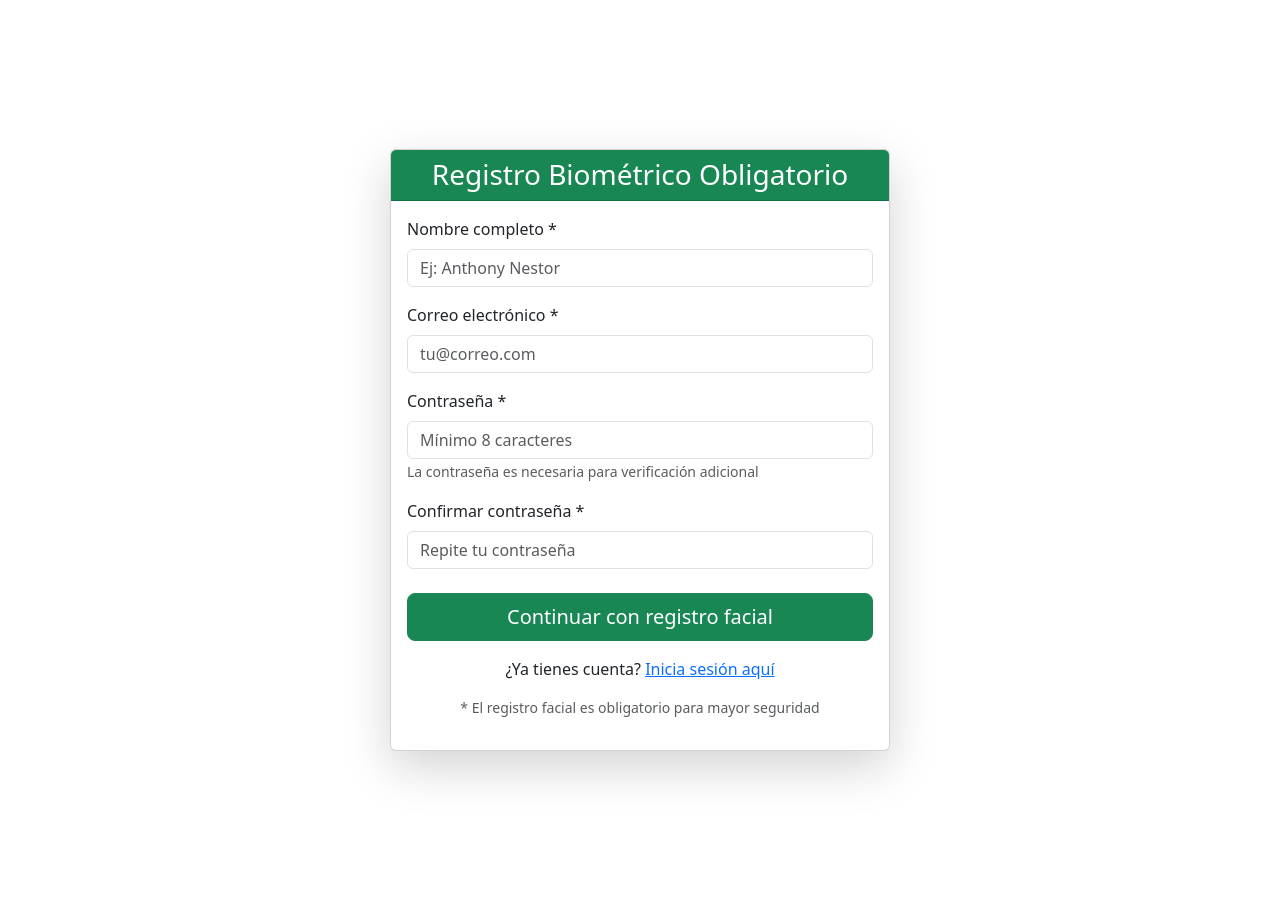
Test: Register component › muestra error cuando las contraseñas no coinciden
Type "Test User" into the field labelled "Nombre completo *" at (640, 268), box [407,249,873,287]
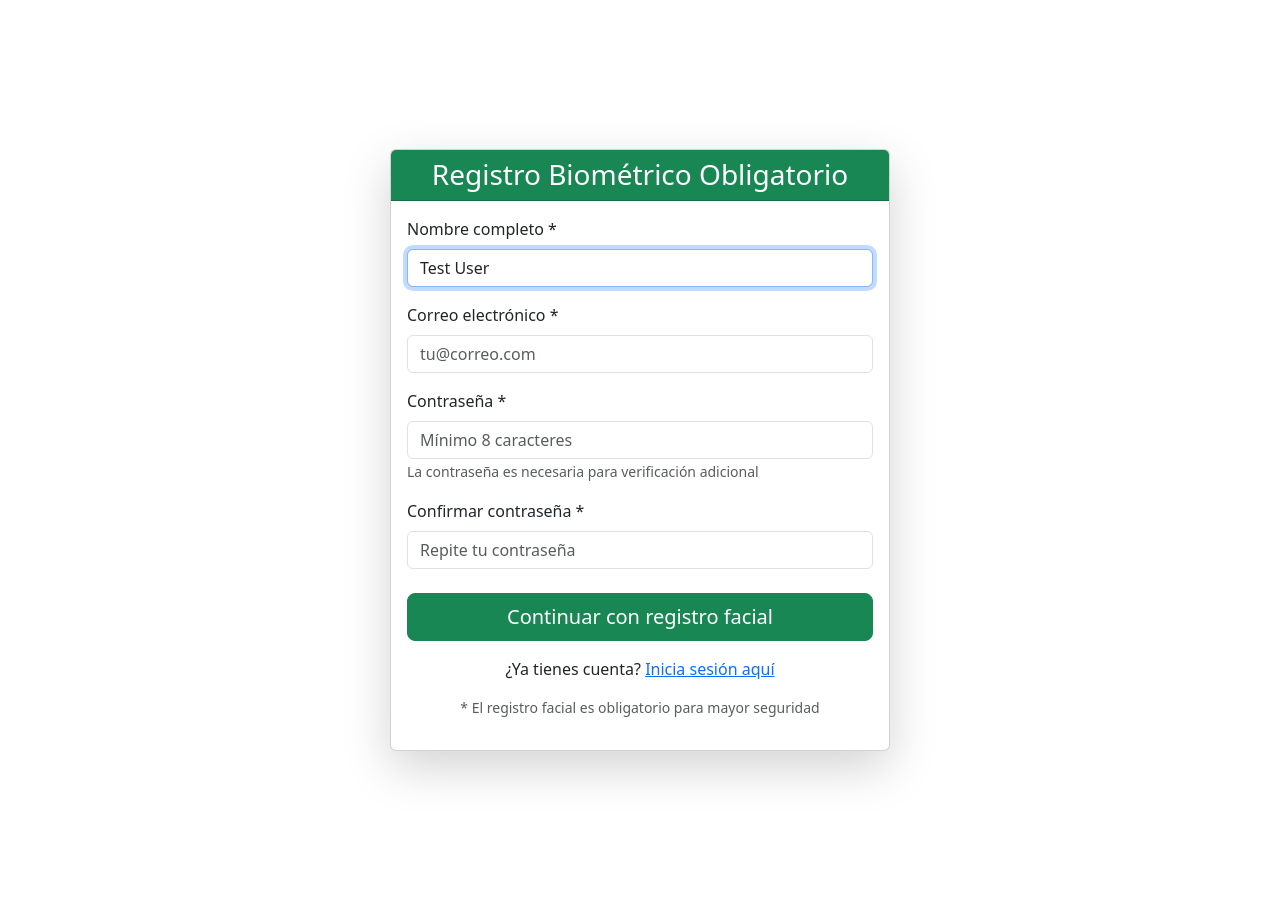
Type "new@test.com" into the field labelled "Correo electrónico *" at (640, 354), box [407,335,873,373]
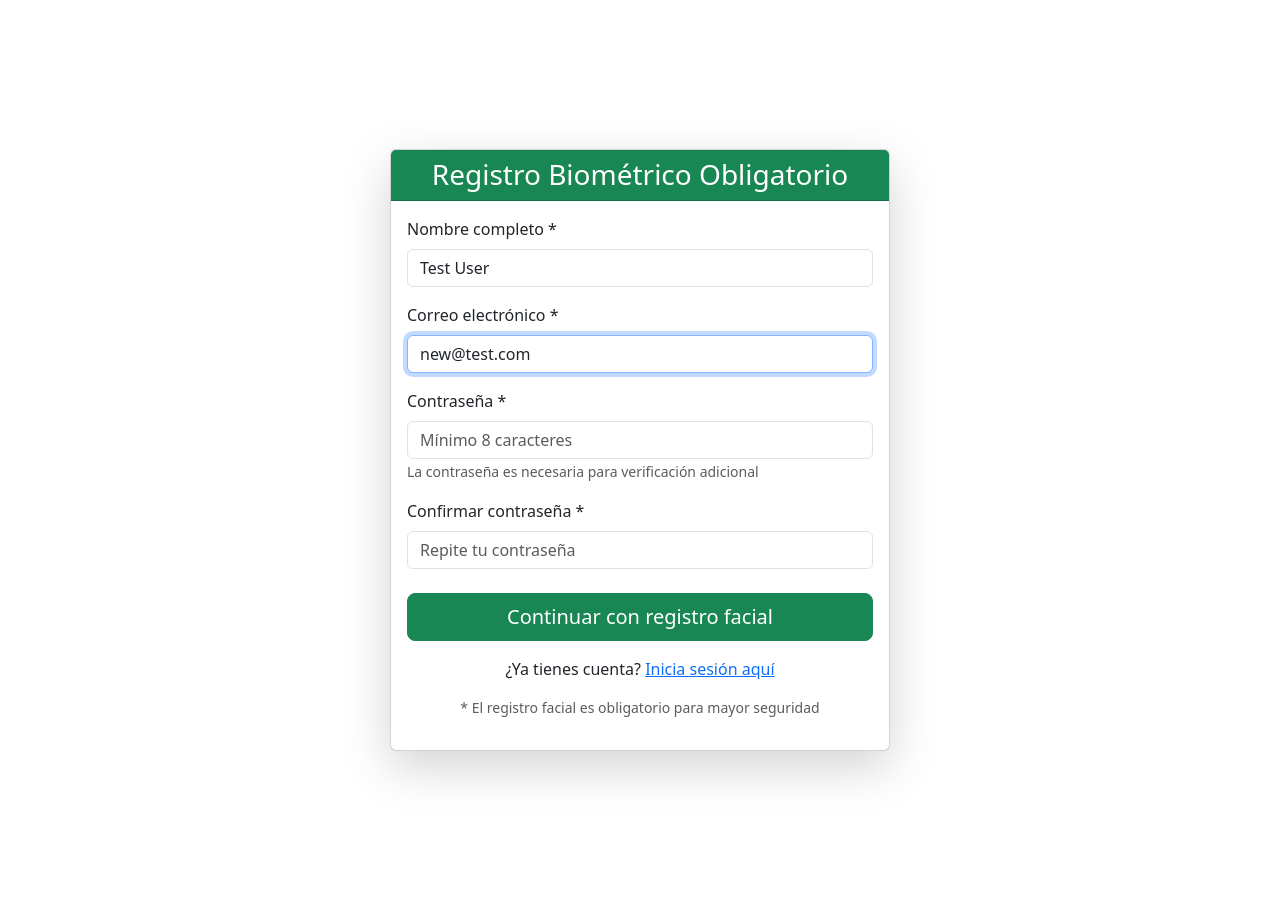
Type "password123" into the password field labelled "Contraseña *" at (640, 440), box [407,421,873,459]
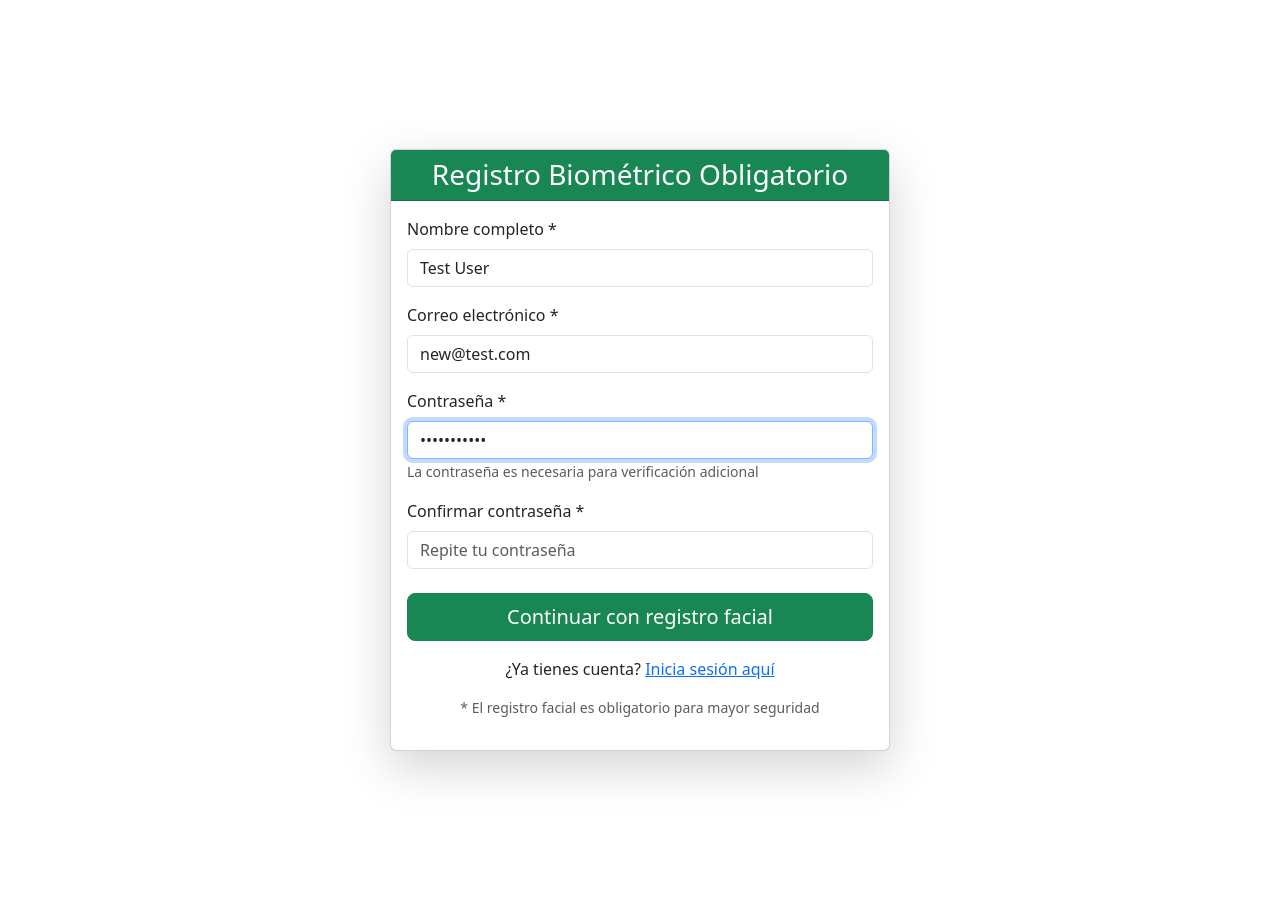
Type "different" into the password field labelled "Confirmar contraseña *" at (640, 550), box [407,531,873,569]
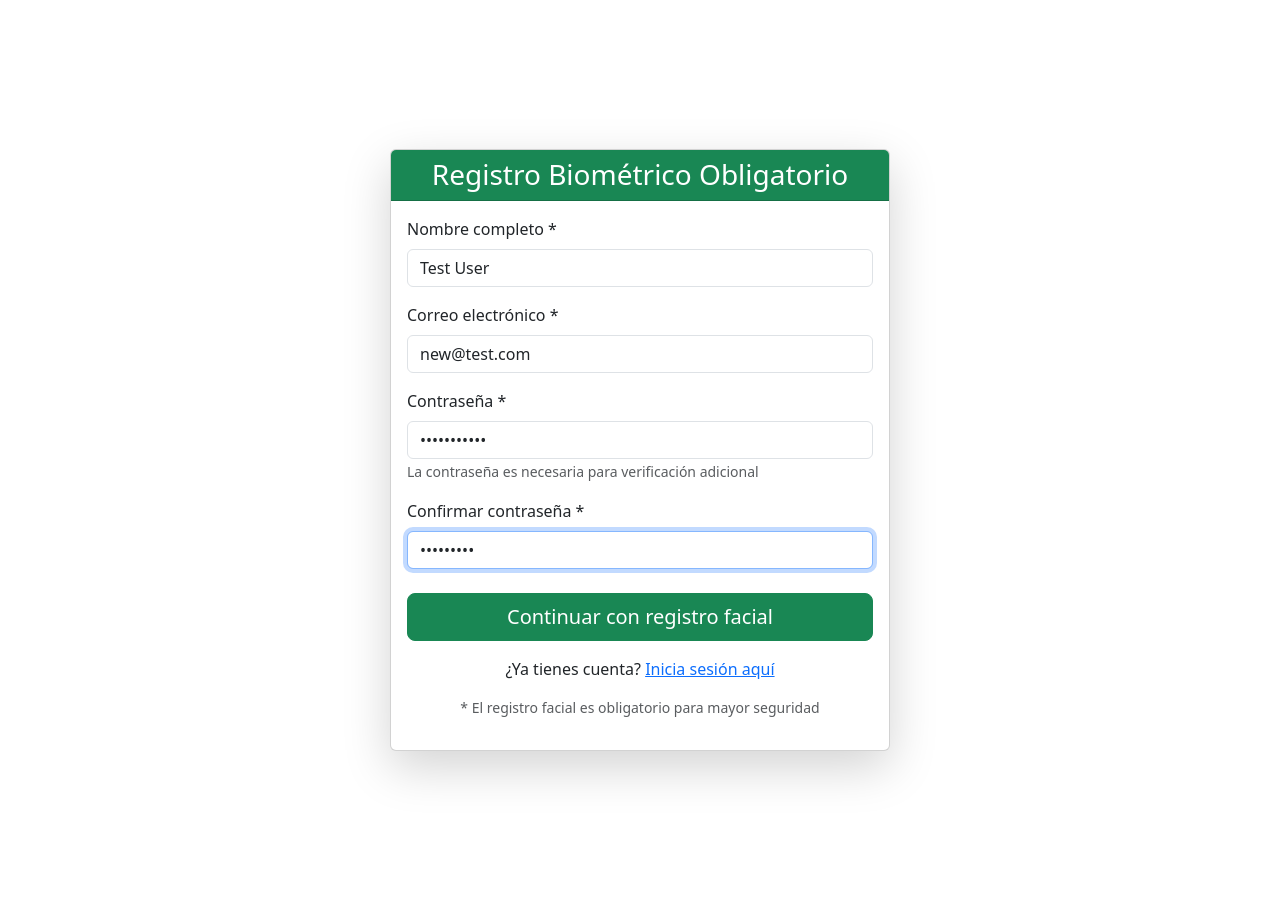
Click the button "Continuar con registro facial" at (640, 617), box [407,593,873,641]
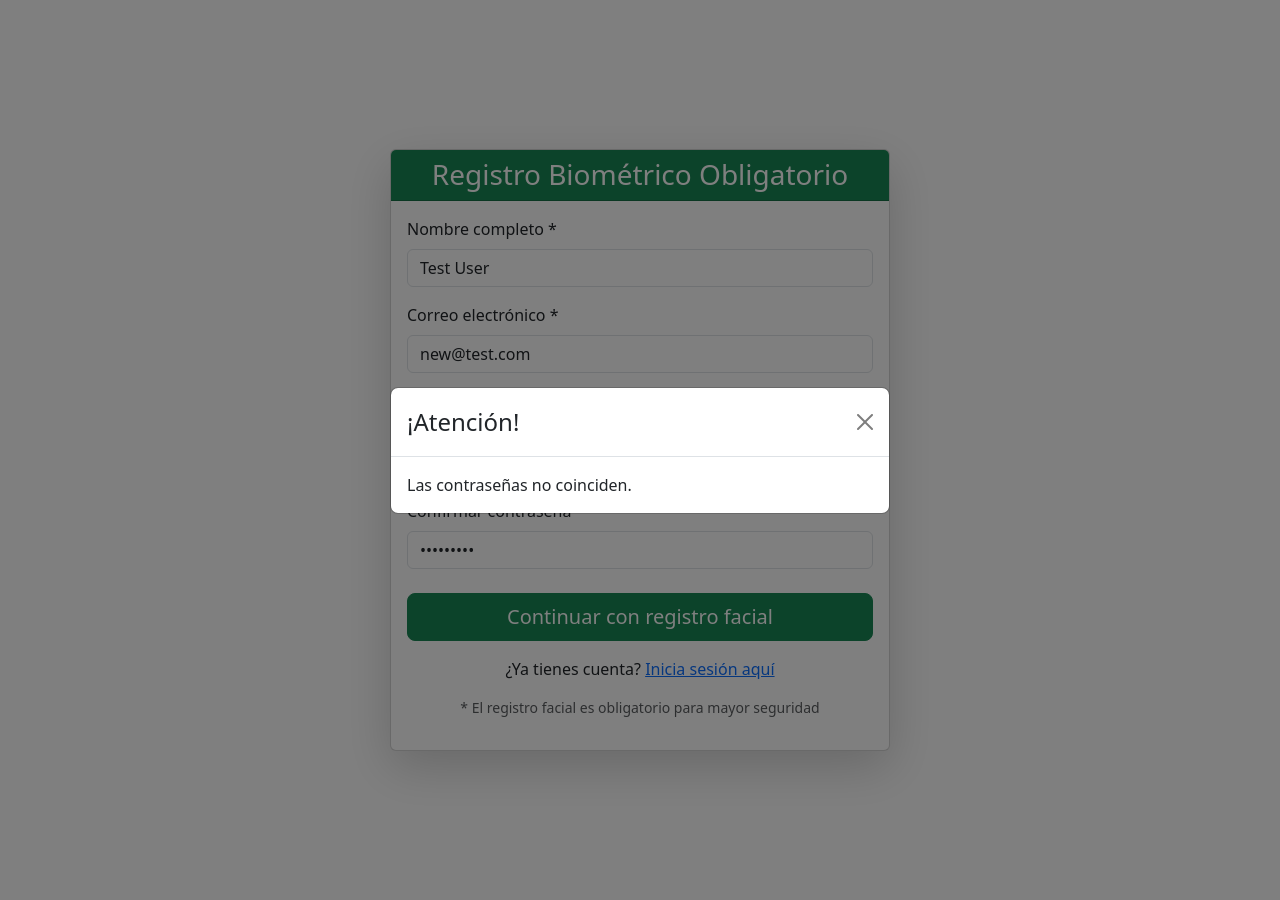
Check: the text "Las contraseñas no coinciden." is shown, box [407,474,632,496]
